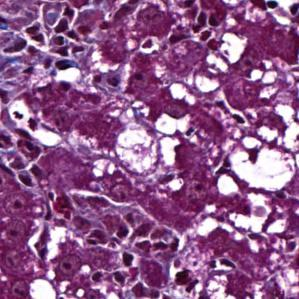ballooning: (226, 134, 299, 194), (114, 121, 163, 176)
